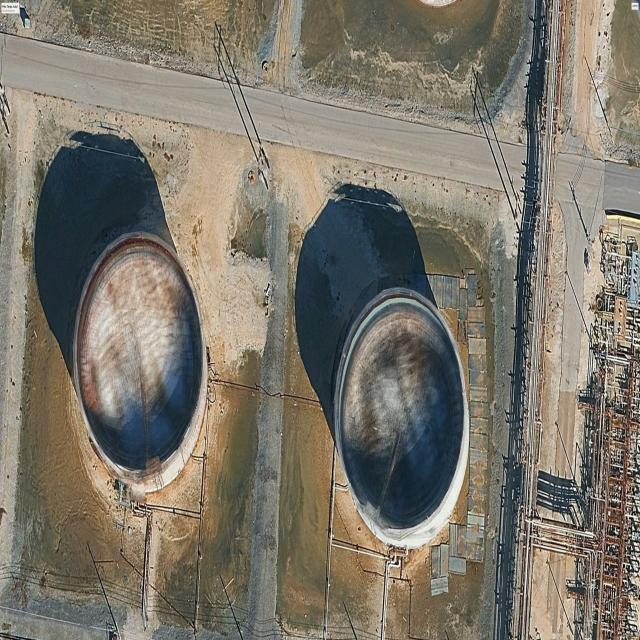Oil Rafinery: (334, 287, 470, 548), (73, 234, 208, 494)
